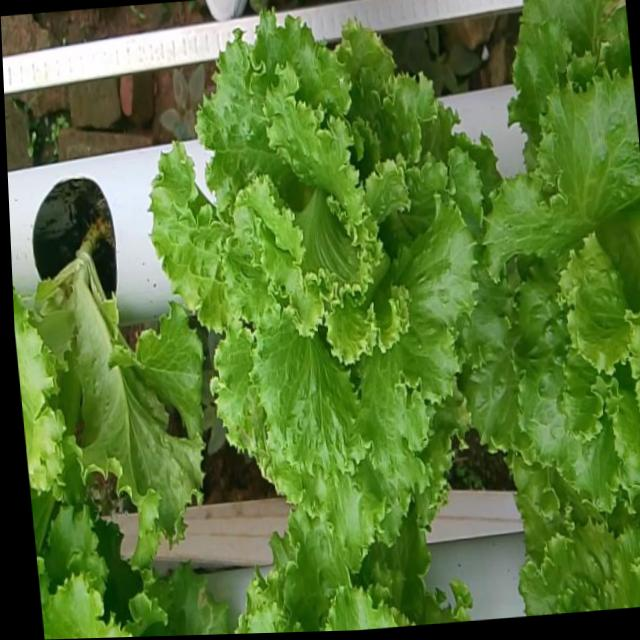Mature: (145, 15, 479, 550), (460, 62, 640, 509)
